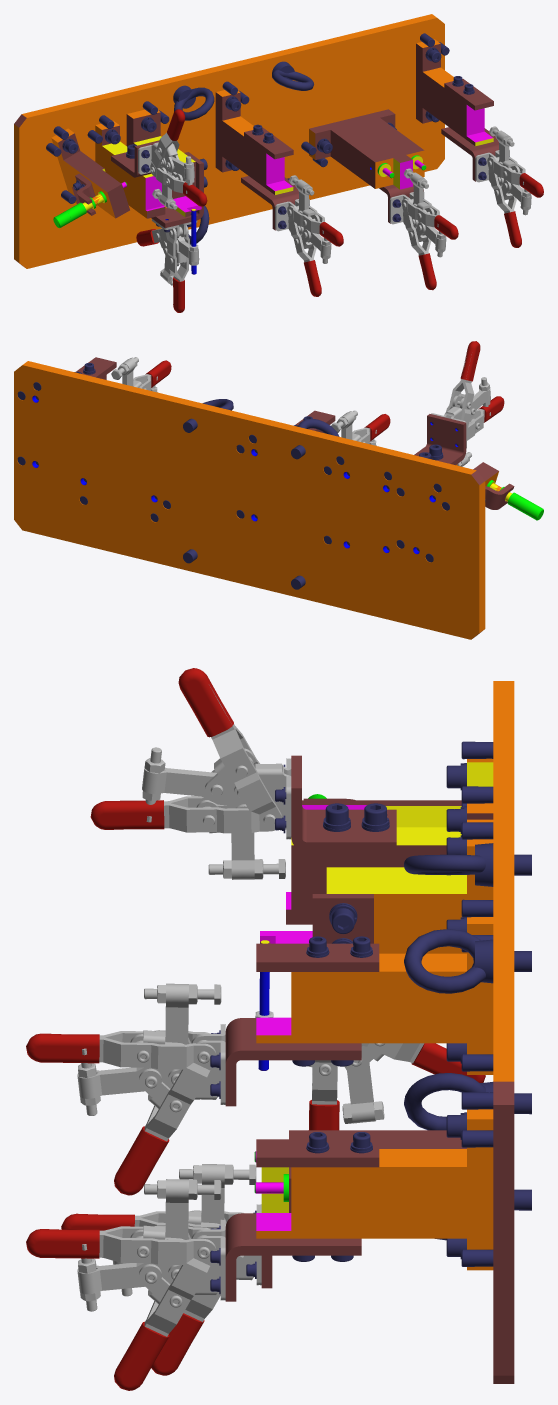
The model's file is OM146438_3418_231_310_0E_K00_260715_KEN.obj.
3 renders of one model, top to bottom at view 1: azimuth 30°, elevation 25°; view 2: azimuth 150°, elevation 25°; view 3: azimuth 270°, elevation 25°, orthographic. The views are drawn at different scales.
Visible parts, largest first — view 1: Shell_000, Shell_266, Shell_148, Shell_207, Shell_020, Shell_034, Shell_087, Shell_323, Shell_088, Shell_259, Shell_322, Shell_200 (+27 smaller); view 2: Shell_000, Shell_079, Shell_060, Shell_323, Shell_063, Shell_027, Shell_208, Shell_322, Shell_019, Shell_171, Shell_230; view 3: Shell_207, Shell_148, Shell_000, Shell_087, Shell_034, Shell_079, Shell_322, Shell_200, Shell_259, Shell_266, Shell_208, Shell_149 (+32 smaller).
Part boxes in pixels (<box>): Shell_000: <box>14,14,444,268</box>; Shell_266: <box>309,109,424,189</box>; Shell_148: <box>215,90,293,194</box>; Shell_207: <box>416,39,493,146</box>; Shell_020: <box>51,128,129,218</box>; Shell_034: <box>95,120,165,218</box>; Shell_087: <box>126,109,195,198</box>; Shell_323: <box>173,85,214,120</box>; Shell_088: <box>151,152,203,228</box>; Shell_259: <box>441,127,498,181</box>; Shell_322: <box>272,61,313,90</box>; Shell_200: <box>241,176,298,230</box>; Shell_000: <box>14,361,485,639</box>; Shell_079: <box>414,414,466,465</box>; Shell_060: <box>446,354,474,428</box>; Shell_323: <box>291,418,339,459</box>; Shell_063: <box>460,341,480,381</box>; Shell_027: <box>485,483,514,509</box>; Shell_208: <box>76,357,116,378</box>; Shell_322: <box>183,399,233,432</box>; Shell_019: <box>487,480,530,513</box>; Shell_171: <box>364,414,390,441</box>; Shell_230: <box>145,360,171,387</box>; Shell_207: <box>256,1109,493,1270</box>; Shell_148: <box>256,917,493,1074</box>; Shell_000: <box>493,681,514,1383</box>; Shell_087: <box>326,819,493,953</box>; Shell_034: <box>286,803,493,924</box>; Shell_079: <box>291,755,396,851</box>; Shell_322: <box>404,929,531,993</box>; Shell_200: <box>225,1018,361,1106</box>; Shell_259: <box>225,1213,361,1301</box>; Shell_266: <box>261,1130,466,1212</box>; Shell_208: <box>256,1139,379,1167</box>; Shell_149: <box>256,943,379,971</box>.
Bounding box in the file's own units: 571 × 295 × 288.
